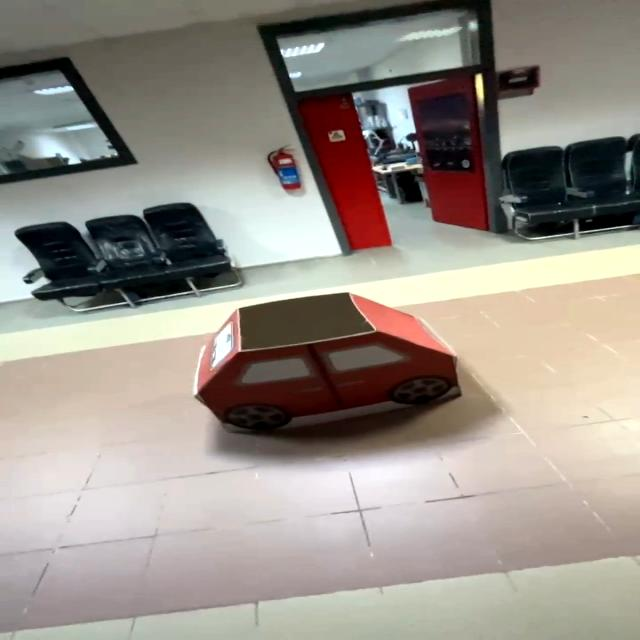red_car: (146, 283, 510, 446)
